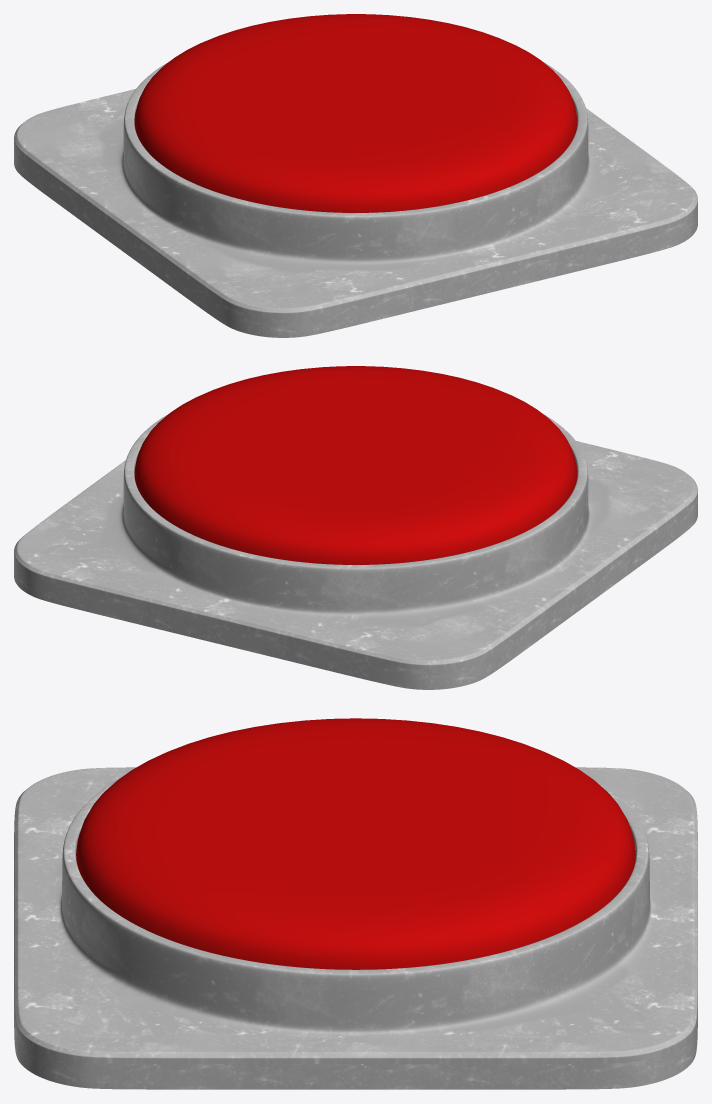
The model's file is button_red.obj.
The picture shows the model from 3 angles, top to bottom: view 1: azimuth 30°, elevation 25°; view 2: azimuth 150°, elevation 25°; view 3: azimuth 270°, elevation 25°; orthographic projection. The views are drawn at different scales.
Visible parts, largest first — view 1: button_1_Cube_Cube.002, button2_Cylinder.001; view 2: button_1_Cube_Cube.002, button2_Cylinder.001; view 3: button_1_Cube_Cube.002, button2_Cylinder.001.
Boxes of the visible parts, x1,y1,x2,y2 form: button_1_Cube_Cube.002: [14, 61, 697, 337]; button2_Cylinder.001: [134, 14, 577, 212]; button_1_Cube_Cube.002: [14, 413, 697, 689]; button2_Cylinder.001: [134, 366, 577, 564]; button_1_Cube_Cube.002: [14, 767, 697, 1089]; button2_Cylinder.001: [76, 718, 635, 969].
Size of the model in its own units: 2 by 0.4061 by 2.
1 material, 1 textured.
